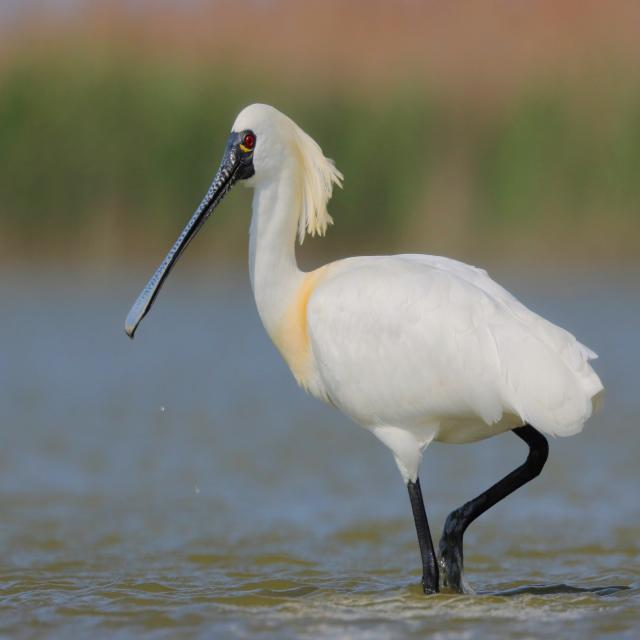Black-faced spoonbill: (126, 104, 602, 592)
